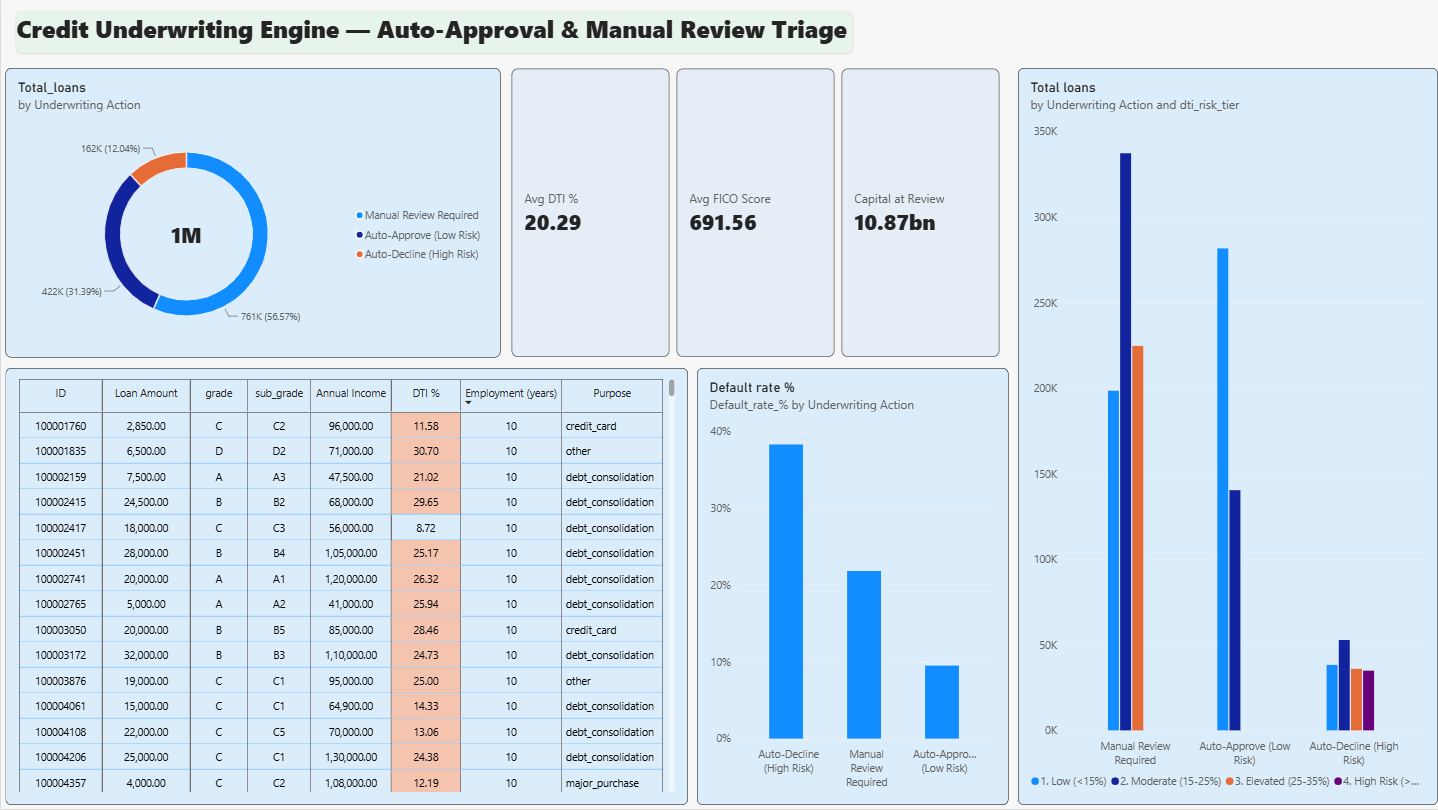

This screenshot's page, from the dashboard's own definition file:
{"tool":"powerbi","page":{"name":"Underwriting Triage","canvas":[1920,1080],"ordinal":1},"visuals":[{"type":"textbox","box":[20,16,1116,56],"z":0},{"type":"donutChart","fields":{"Category":["public view_cleaned_loan_risk.Underwriting Action"],"Y":["_RiskMeasures.Total_loans"]},"box":[6,92,660,386],"z":1000},{"type":"clusteredColumnChart","title":"Default rate %","fields":{"Category":["public view_cleaned_loan_risk.Underwriting Action"],"Y":["_RiskMeasures.Default_rate_%"]},"box":[927.5,492.5,415,582.5],"z":2000},{"type":"tableEx","fields":{"Values":["public view_cleaned_loan_risk.id","Sum(public view_cleaned_loan_risk.loan_amount)","public view_cleaned_loan_risk.grade","public view_cleaned_loan_risk.sub_grade","Sum(public view_cleaned_loan_risk.annual_inc)","Sum(public view_cleaned_loan_risk.dti)","Sum(public view_cleaned_loan_risk.emp_years)","public view_cleaned_loan_risk.purpose"]},"box":[5,492.5,910,582.5],"z":3000},{"type":"cardVisual","fields":{"Data":["_RiskMeasures.Queue Avg DTI","Sum(_RiskMeasures.Queue Avg FICO)","Sum(_RiskMeasures.Queue Exposure)"]},"box":[680,92,652,386],"z":4000},{"type":"clusteredColumnChart","title":"Total loans ","fields":{"Category":["public view_cleaned_loan_risk.Underwriting Action"],"Series":["public view_cleaned_loan_risk.dti_risk_tier"],"Y":["_RiskMeasures.Total_loans"]},"box":[1355,92.5,560,982.5],"z":5000}]}

Visuals, with their boxes in screenshot pixels (x1, y1, x2, y2), scaled from the page's 1920x1080 canvas onto the 1438x810 screenshot:
textbox: pyautogui.locateOnScreen(15, 12, 851, 54)
donutChart - public view_cleaned_loan_risk.Underwriting Action x _RiskMeasures.Total_loans: pyautogui.locateOnScreen(4, 69, 499, 358)
"Default rate %" clusteredColumnChart: pyautogui.locateOnScreen(695, 369, 1005, 806)
tableEx - public view_cleaned_loan_risk.id x Sum(public view_cleaned_loan_risk.loan_amount): pyautogui.locateOnScreen(4, 369, 685, 806)
cardVisual - _RiskMeasures.Queue Avg DTI x Sum(_RiskMeasures.Queue Avg FICO): pyautogui.locateOnScreen(509, 69, 998, 358)
"Total loans " clusteredColumnChart: pyautogui.locateOnScreen(1015, 69, 1434, 806)
